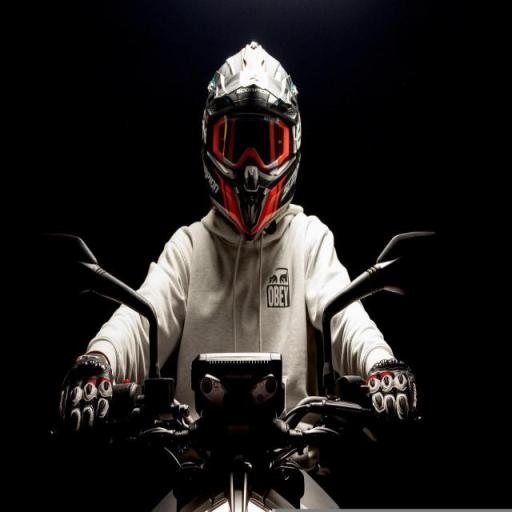Helmet: (203, 42, 300, 239)
Motor: (48, 233, 431, 511)
